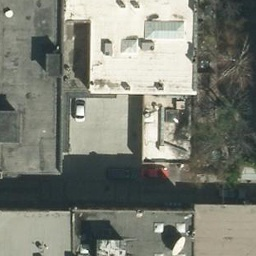car: (214, 184, 247, 202), (104, 165, 138, 182), (138, 165, 167, 180), (73, 97, 89, 122)
